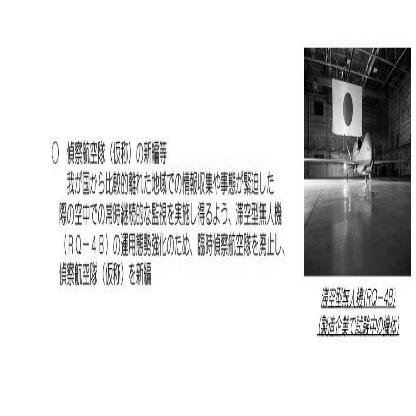RQ4: (305, 132, 412, 183)
